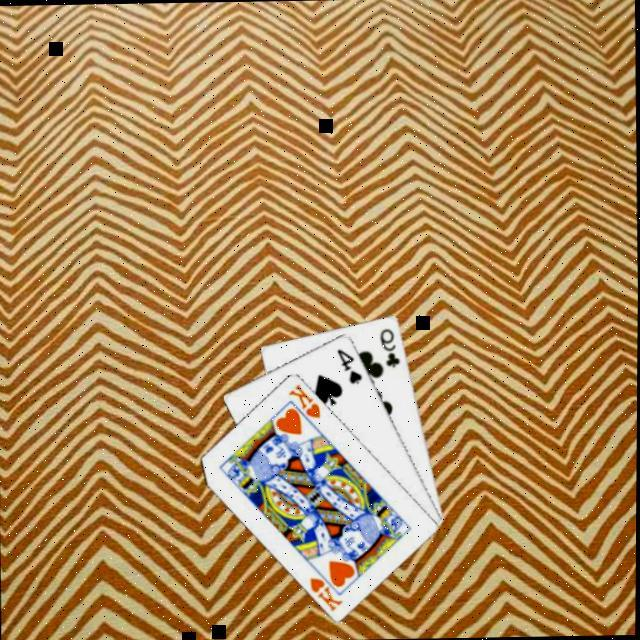4S: (336, 344, 368, 386)
9C: (378, 323, 406, 369)
KH: (287, 378, 326, 421), (308, 572, 348, 613)
